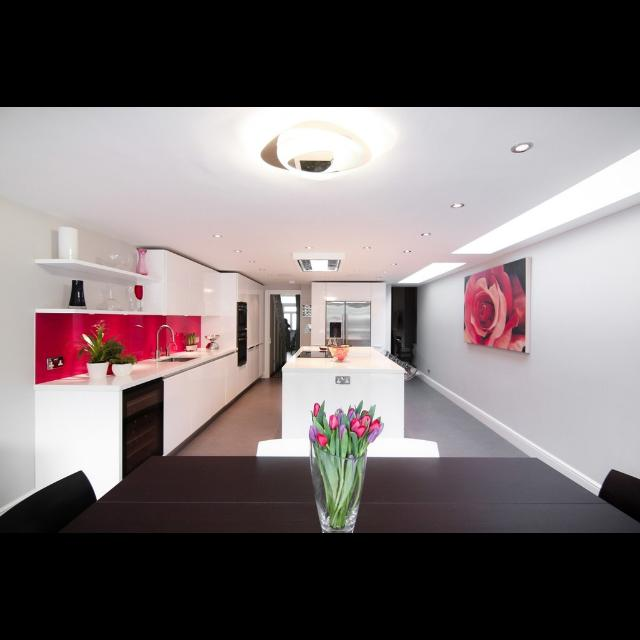Flower: (464, 269, 534, 359), (325, 406, 385, 442), (316, 436, 328, 448), (311, 403, 321, 417), (308, 426, 318, 438)
